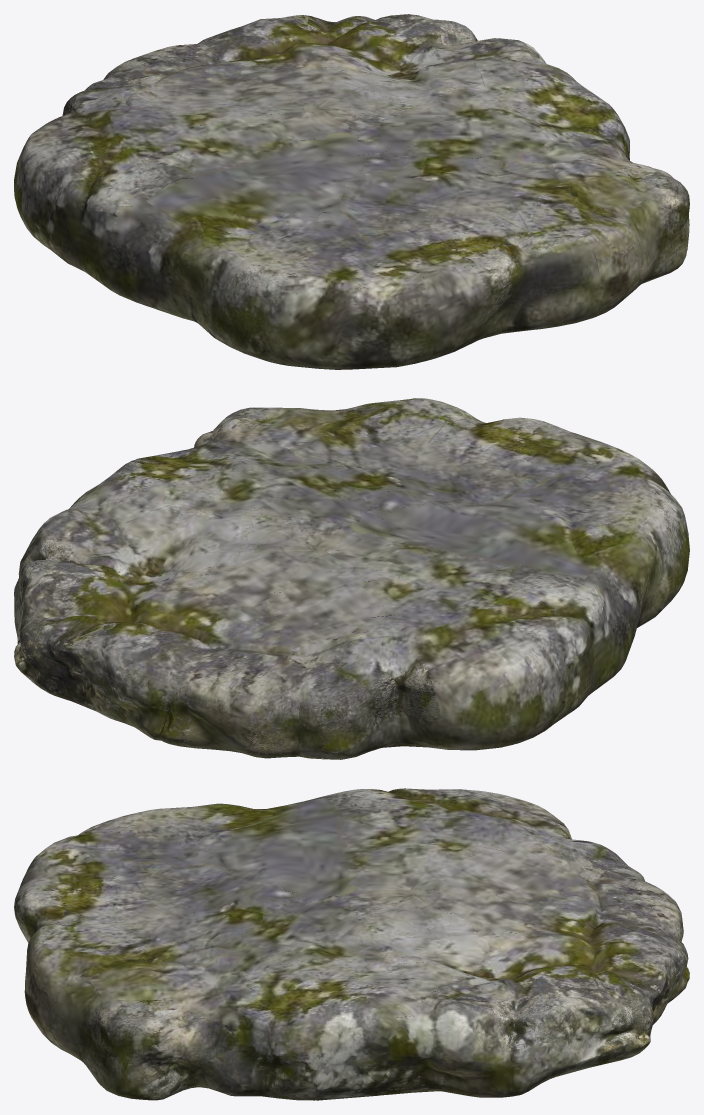
File: boulder3.glb
3 renders of one model, top to bottom at view 1: azimuth 30°, elevation 25°; view 2: azimuth 150°, elevation 25°; view 3: azimuth 270°, elevation 25°, orthographic. The views are drawn at different scales.
Parts seen in each view (by area): view 1: Mesh_0; view 2: Mesh_0; view 3: Mesh_0.
Boxes of the visible parts, x1,y1,x2,y2 form: Mesh_0: (14, 14, 689, 369); Mesh_0: (14, 398, 689, 759); Mesh_0: (14, 788, 689, 1100).
Bounding box in the file's own units: 0.869 × 0.1636 × 1.
Materials: 1 (1 with a texture image).
